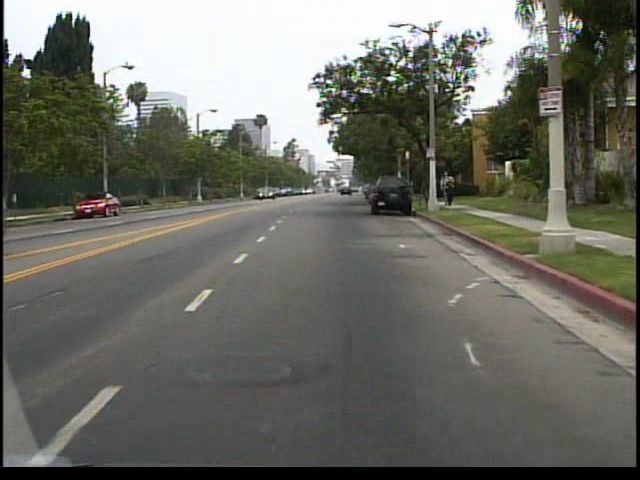person: (441, 169, 457, 209), (445, 173, 458, 207)
